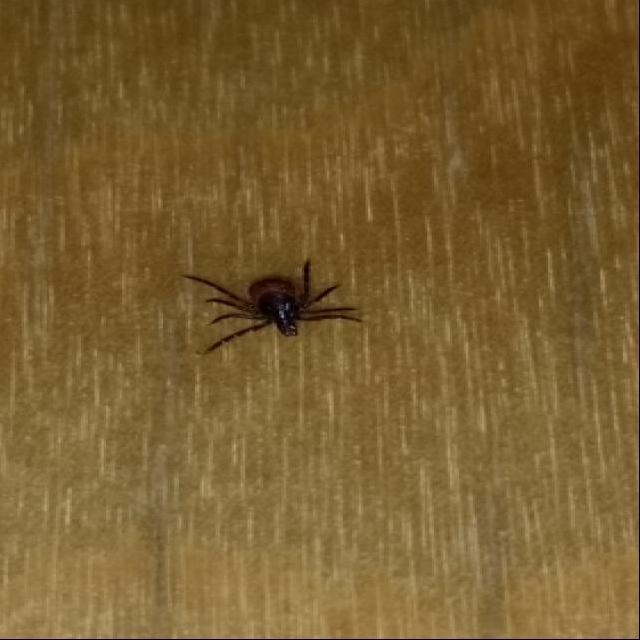Ixodes Ricinus-F: (184, 262, 364, 364)
